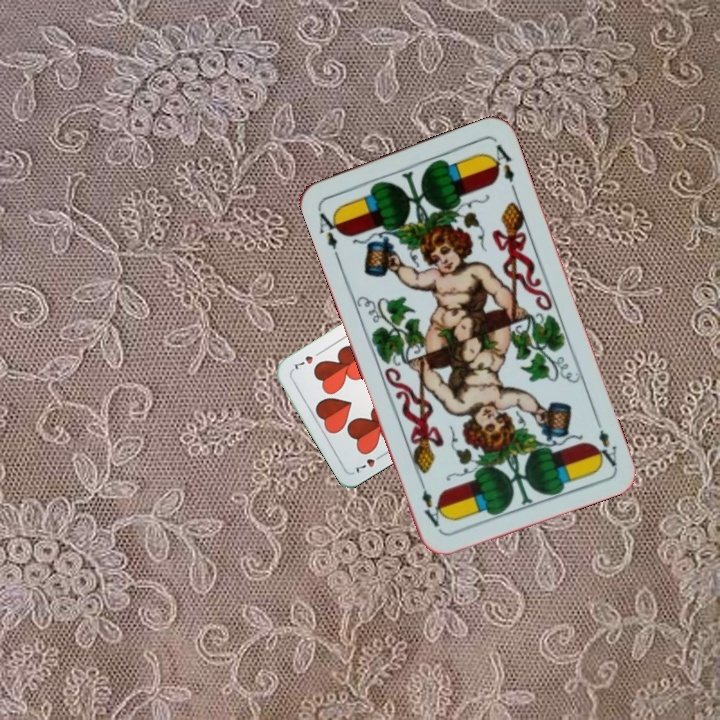EA: (313, 203, 346, 260), (590, 412, 620, 470)
H7: (352, 450, 387, 475)
